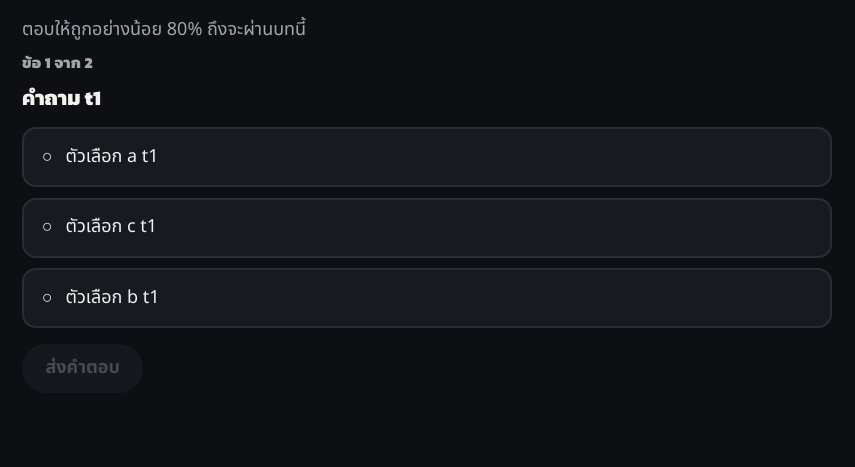
Scenario: QuizView › แสดงชั้น th ก่อน en
Expected: the heading "คำถาม t1" is shown, [22,82,101,113]
Click the button "○ ตัวเลือก a t1".
click(112, 156)  # box [22,127,832,187]
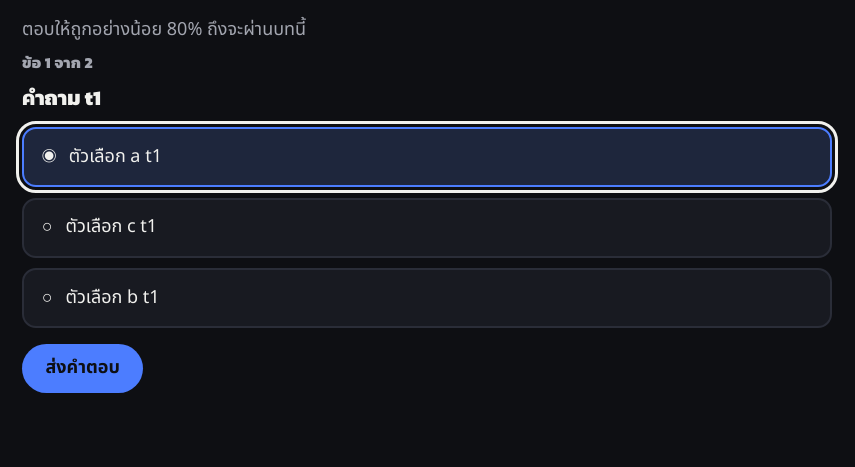
Click the button "ส่งคำตอบ".
click(83, 369)  # box [22,344,143,393]
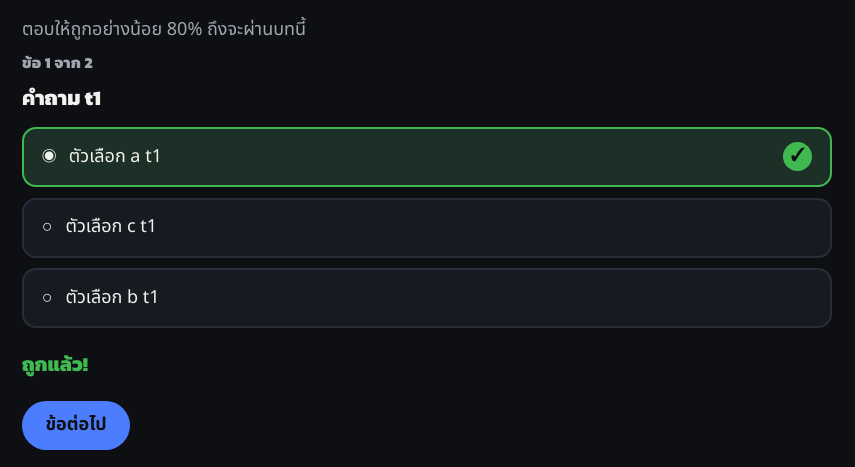
Click the button "ข้อต่อไป".
click(76, 426)  # box [22,401,130,450]
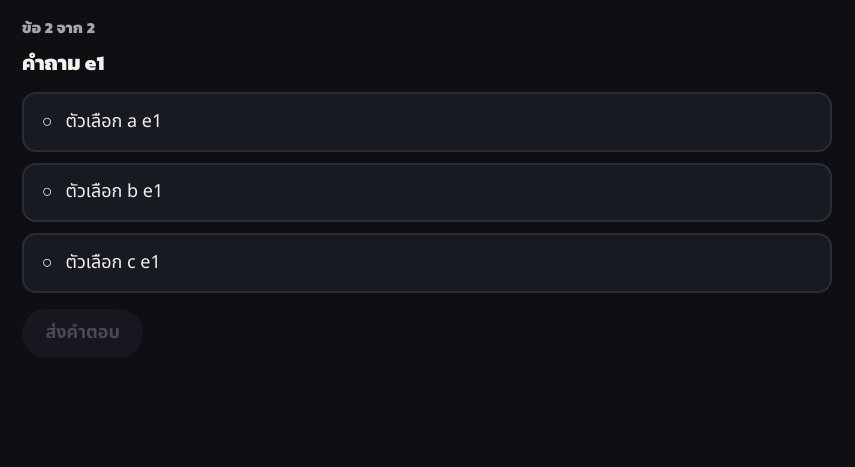
Expected: the heading "คำถาม e1" is shown, [22,47,104,78]
